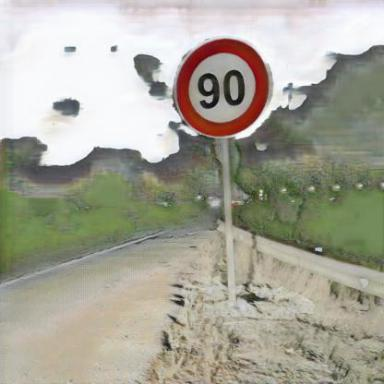Speed_limit_90: (175, 39, 272, 138)
